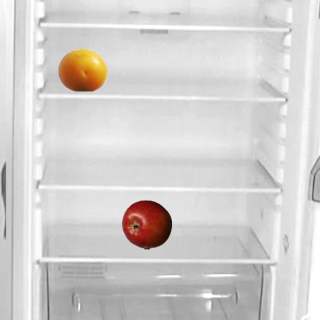Apple Braeburn: (121, 199, 171, 249)
Cherry Wax Yellow: (57, 44, 107, 94)
